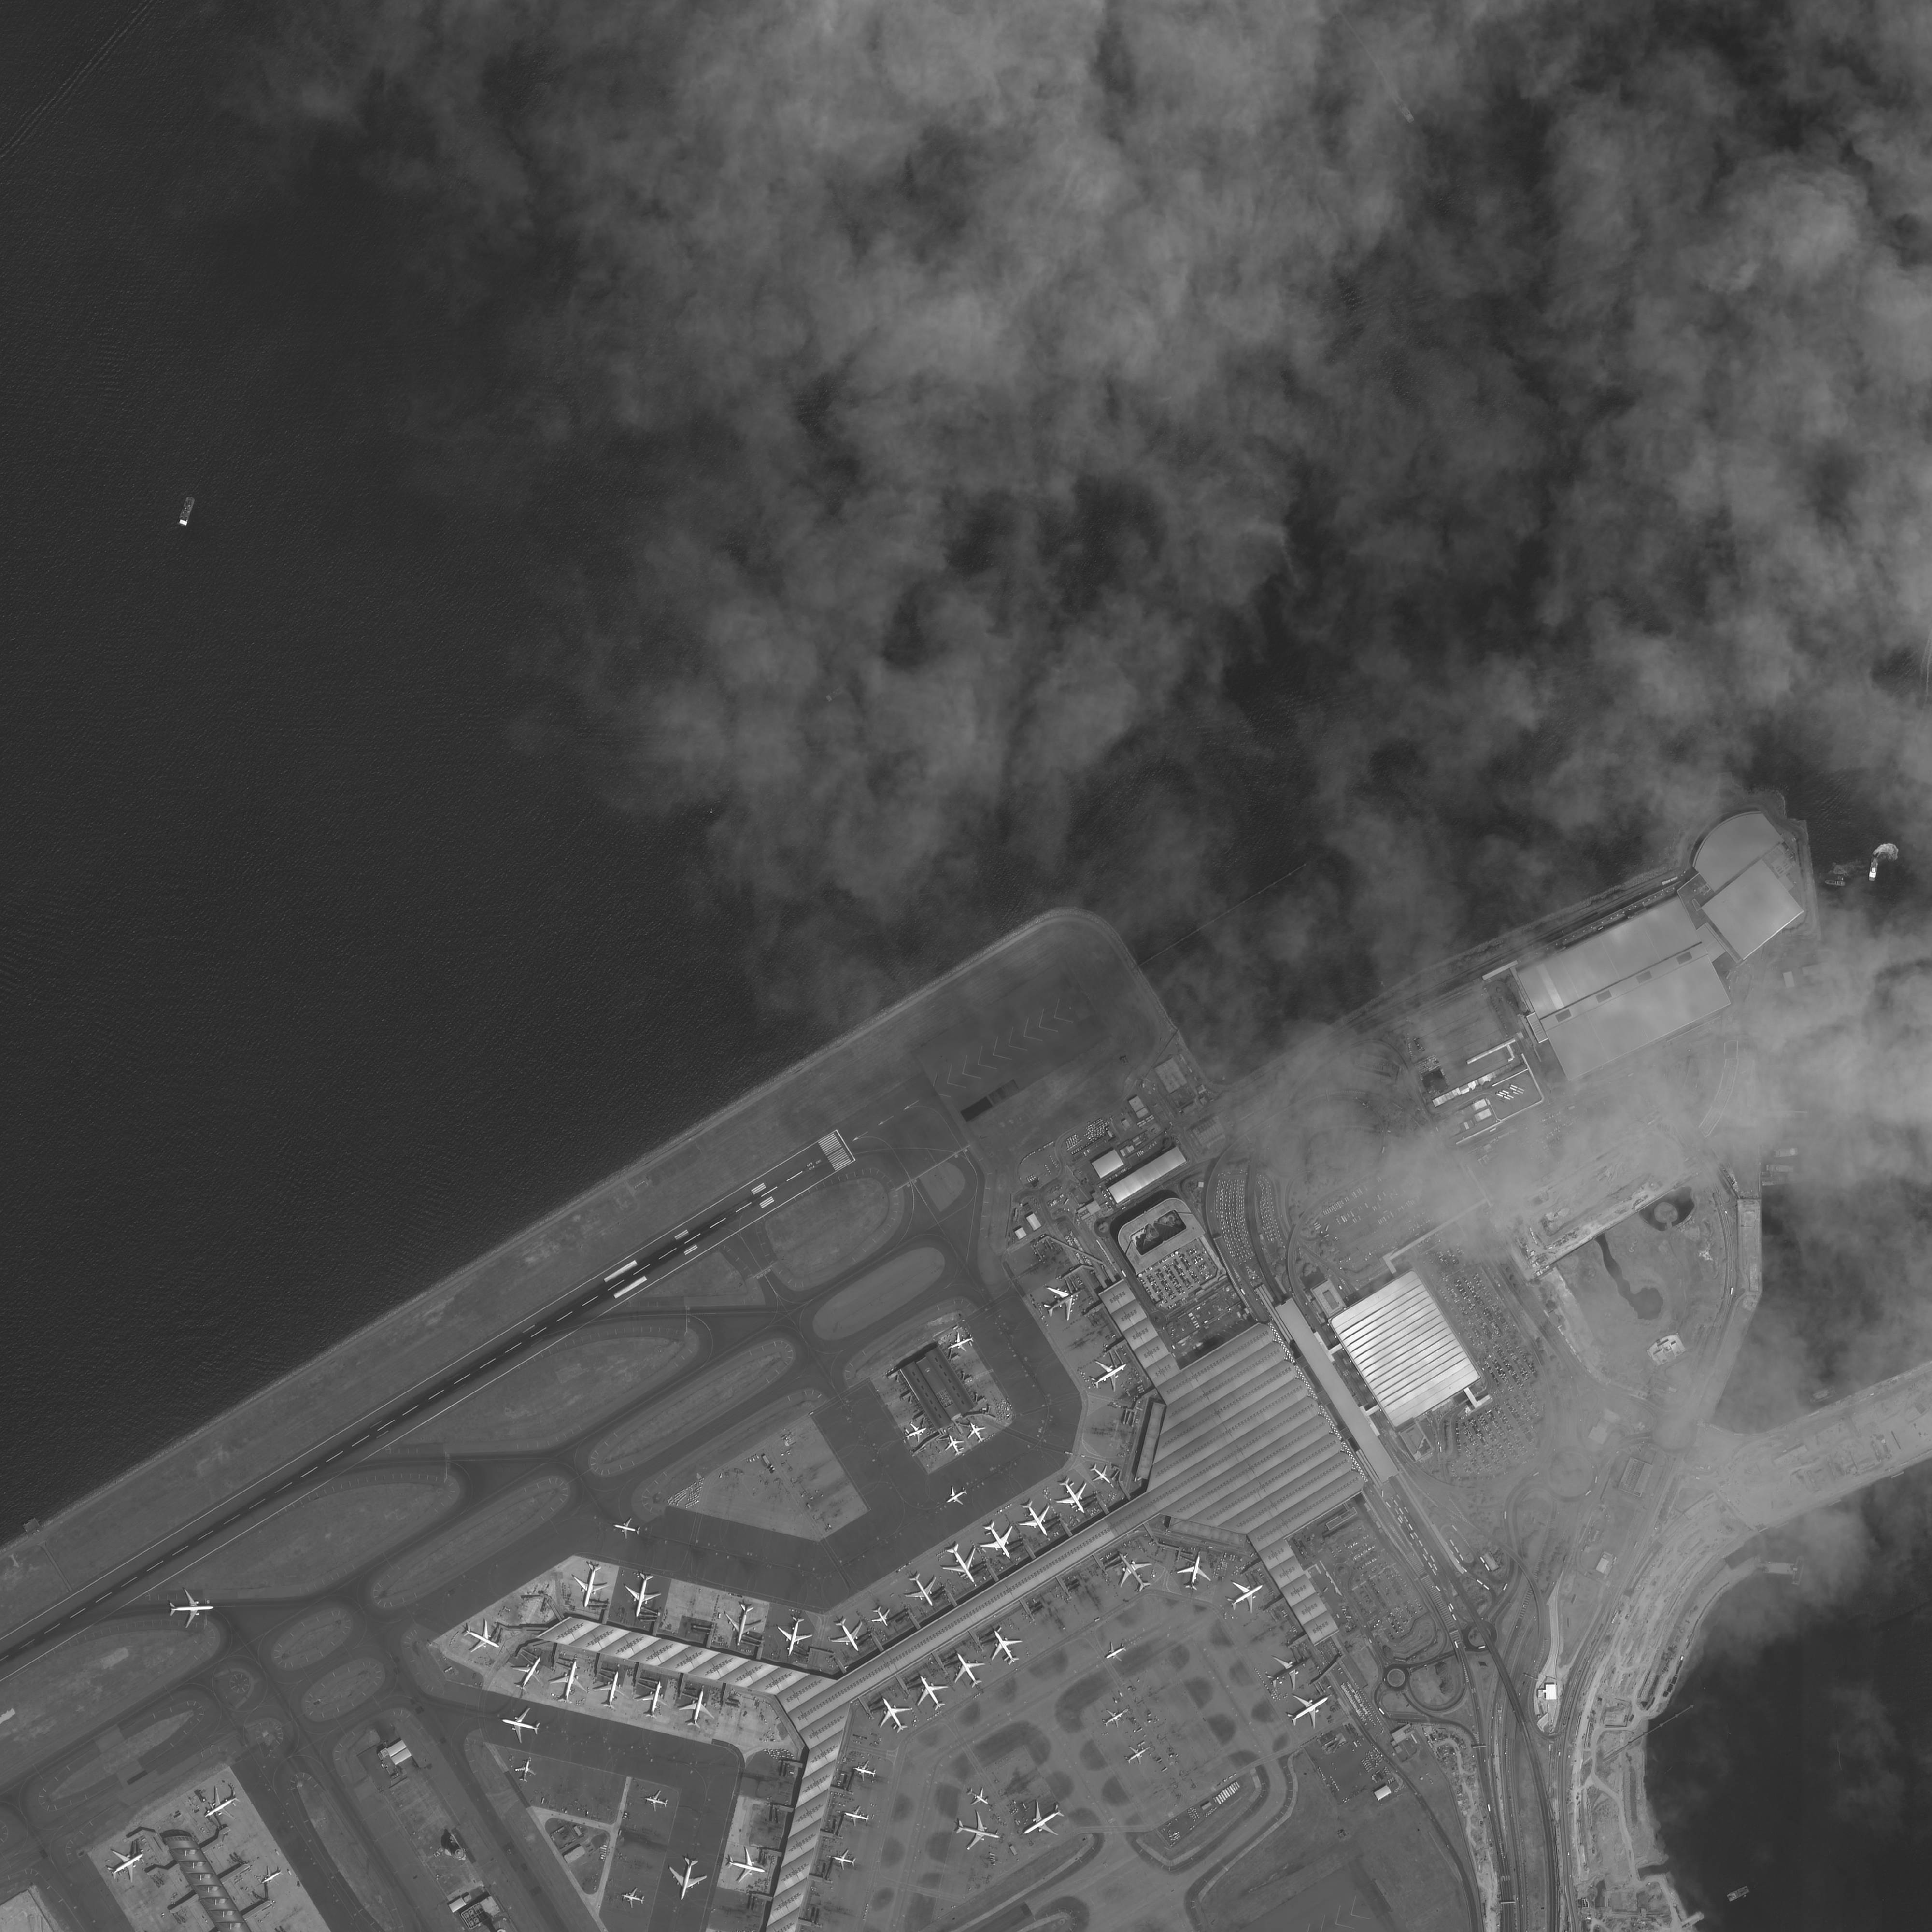harbor: (1755, 1562, 1794, 1576), (1686, 1909, 1707, 1927)
plane: (1104, 1539, 1162, 1603), (1279, 1681, 1338, 1739), (934, 1536, 991, 1594), (99, 1836, 156, 1895), (1037, 1272, 1093, 1329), (1016, 1796, 1072, 1851), (1260, 1644, 1315, 1700), (662, 1851, 713, 1909), (971, 1514, 1024, 1569), (1219, 1569, 1272, 1624), (1047, 1468, 1099, 1525), (948, 1806, 1007, 1856), (906, 1668, 955, 1725), (1010, 1493, 1062, 1546), (941, 1645, 993, 1698), (455, 1612, 506, 1663), (504, 1647, 556, 1698), (545, 1656, 594, 1709), (196, 1780, 249, 1829), (869, 1688, 918, 1741), (982, 1622, 1031, 1674), (1085, 1350, 1136, 1399), (617, 1568, 665, 1621), (895, 1566, 945, 1615), (1171, 1550, 1219, 1599), (720, 1598, 766, 1649), (566, 1559, 612, 1610), (499, 1702, 547, 1750), (674, 1688, 720, 1736), (826, 1612, 870, 1661), (771, 1610, 816, 1658), (720, 1844, 768, 1888), (591, 1667, 633, 1714), (166, 1587, 214, 1629), (633, 1677, 674, 1725), (1122, 1739, 1157, 1771), (865, 1599, 897, 1633), (1086, 1456, 1118, 1490), (1097, 1702, 1131, 1734), (962, 1780, 994, 1812), (945, 1327, 977, 1357), (941, 1481, 973, 1511), (257, 1861, 287, 1891), (1100, 1637, 1131, 1667), (939, 1430, 968, 1461), (511, 1757, 540, 1787), (830, 1847, 860, 1875), (962, 1419, 991, 1447), (642, 1787, 671, 1815), (619, 1884, 648, 1913), (612, 1514, 642, 1541), (901, 1421, 931, 1447), (851, 1757, 878, 1783), (842, 1805, 870, 1829)
roundabout: (1467, 1622, 1495, 1651), (1387, 1668, 1407, 1688)
ship: (1389, 90, 1417, 126), (175, 495, 198, 527), (1725, 1882, 1752, 1905), (1806, 1385, 1836, 1405), (1790, 1555, 1806, 1587), (1769, 1146, 1801, 1159), (1867, 855, 1881, 881), (1819, 870, 1845, 881), (1766, 1164, 1794, 1173), (1824, 879, 1845, 888)
